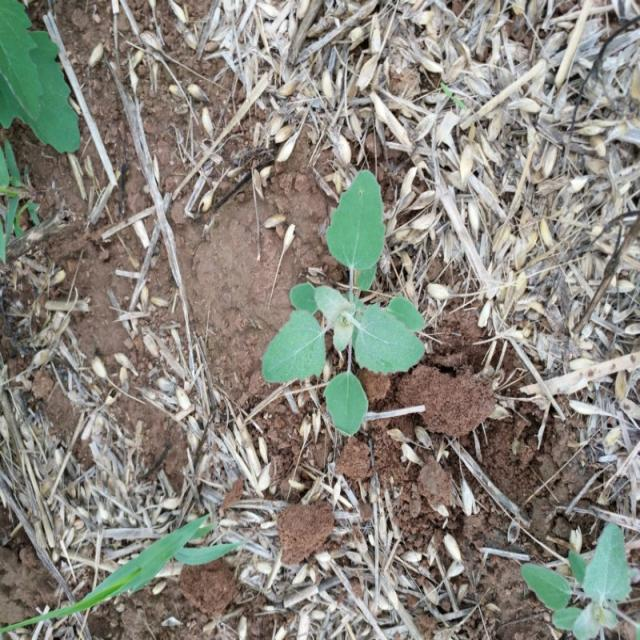goosefoots: (266, 181, 429, 446)
